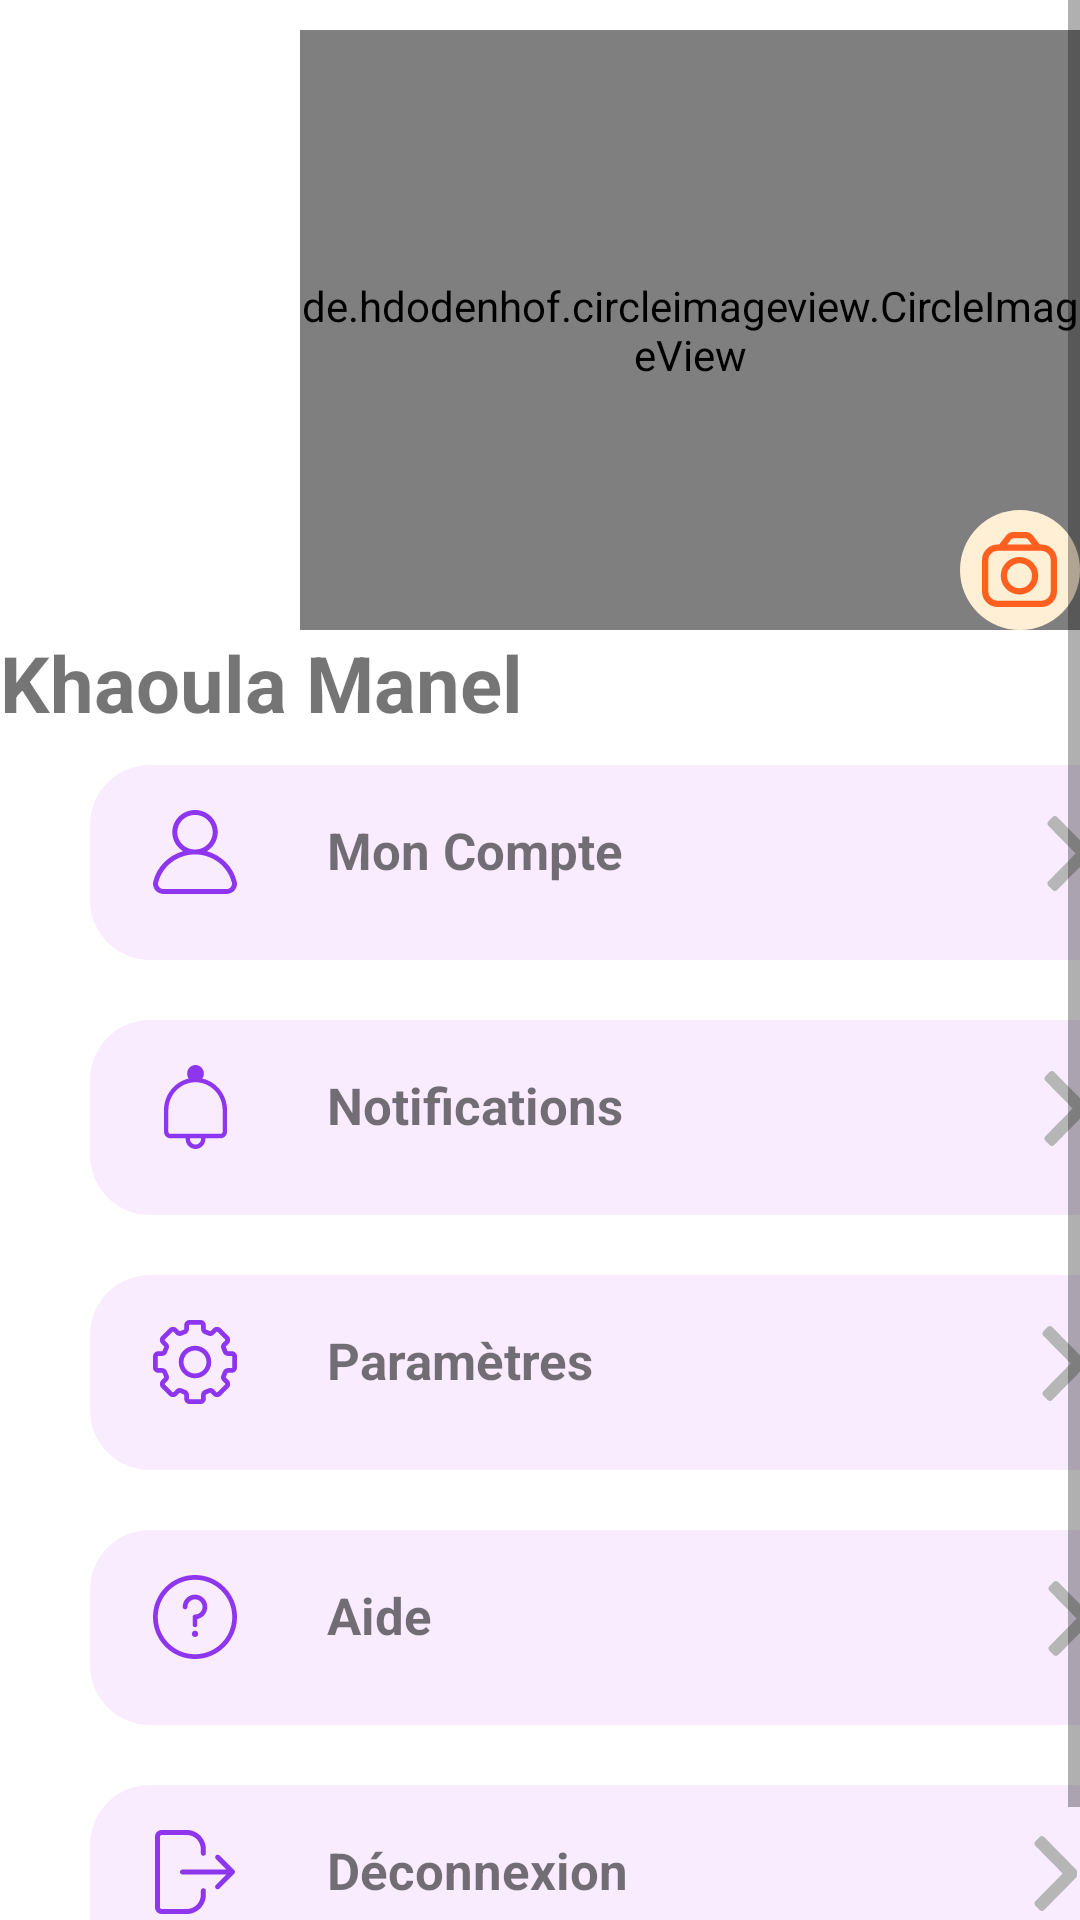

Where to tap for icons on this 1080px x 1920px app screen, as point (x, y):
bell: point (195, 1107)
camera: point (1019, 569)
question mark: point (195, 1617)
settings: point (195, 1362)
user: point (195, 852)
